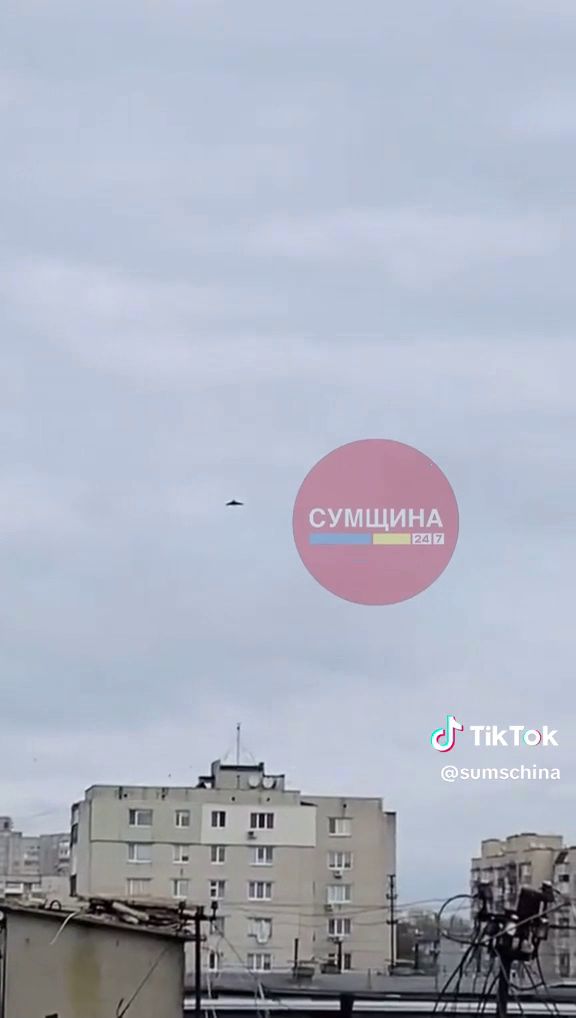shahed: (226, 499, 243, 506)
